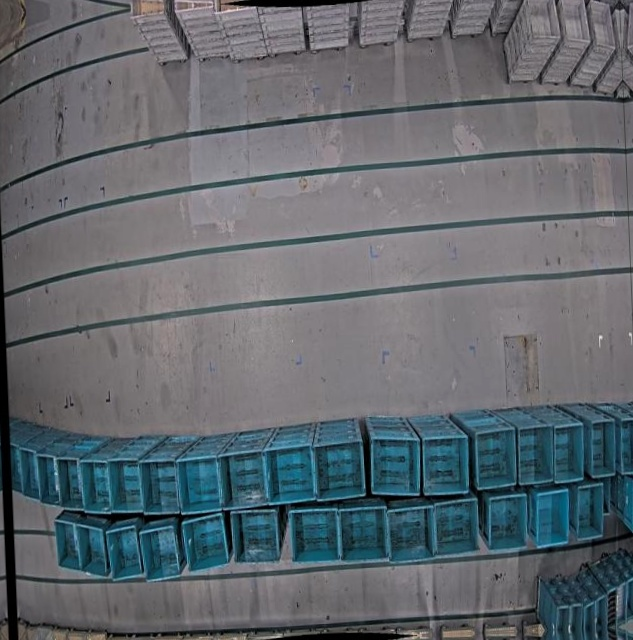Box: (369, 431, 422, 497), (313, 437, 367, 501), (420, 430, 470, 497), (337, 502, 389, 565), (431, 494, 481, 558), (289, 505, 340, 567), (267, 442, 317, 505), (384, 502, 433, 565), (230, 506, 281, 566), (473, 425, 518, 492), (176, 453, 223, 515), (183, 512, 230, 574), (484, 491, 530, 554), (225, 447, 269, 510), (139, 522, 180, 582), (533, 487, 570, 548), (106, 522, 143, 581), (550, 419, 585, 481), (145, 457, 180, 515), (573, 481, 606, 542), (521, 422, 554, 483), (76, 522, 109, 578), (586, 416, 616, 477), (82, 456, 113, 514), (114, 456, 144, 513), (54, 517, 81, 575), (58, 455, 83, 511), (36, 450, 61, 505), (20, 446, 40, 502), (617, 416, 633, 474), (619, 475, 633, 532), (10, 441, 23, 495), (615, 580, 628, 628), (128, 6, 165, 19), (568, 601, 584, 630), (606, 586, 617, 628), (594, 593, 607, 628), (552, 605, 569, 630), (583, 601, 596, 629), (626, 576, 633, 624), (633, 569, 633, 622)
